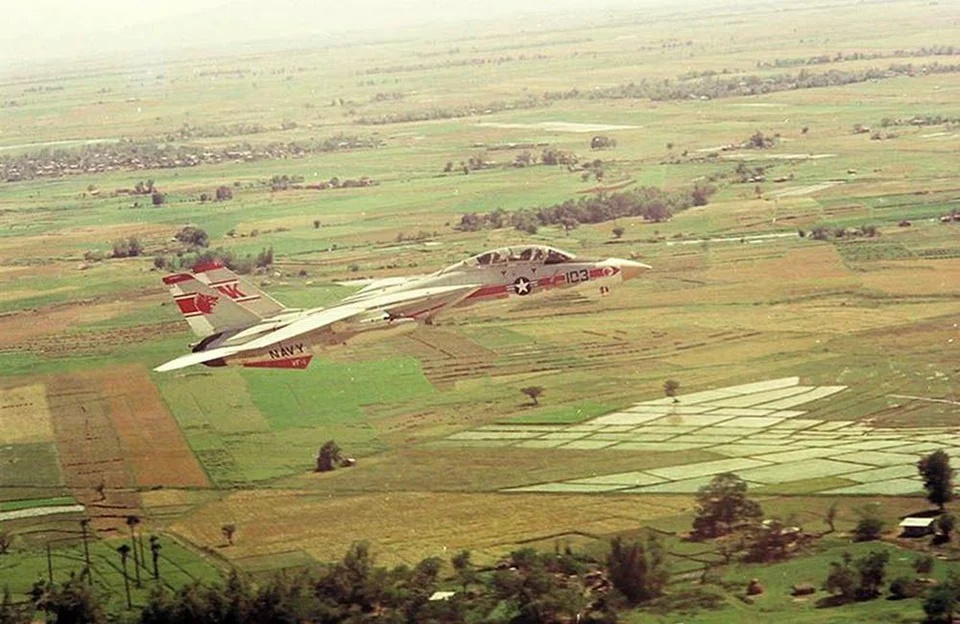F14: (152, 244, 653, 374)
